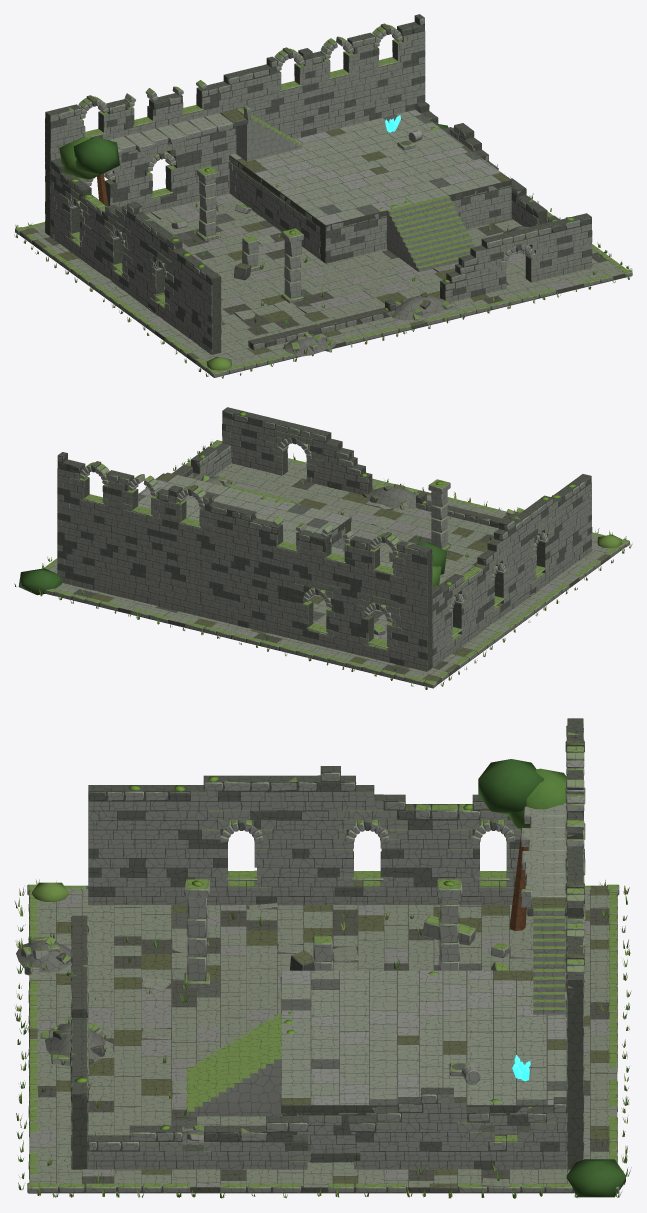
The model's file is ruin.glb.
3 renders of one model, top to bottom at view 1: azimuth 30°, elevation 25°; view 2: azimuth 150°, elevation 25°; view 3: azimuth 270°, elevation 25°, orthographic. The views are drawn at different scales.
Visible parts, largest first — view 1: ruin.001; view 2: ruin.001; view 3: ruin.001.
Part boxes in pixels (x1=…): ruin.001: x1=14, y1=14, x2=632, y2=378; ruin.001: x1=14, y1=407, x2=632, y2=689; ruin.001: x1=14, y1=718, x2=631, y2=1198.
Size of what is drawn, in the model's own units: 35.5 by 10.79 by 29.48.
14 materials, 13 textured.
